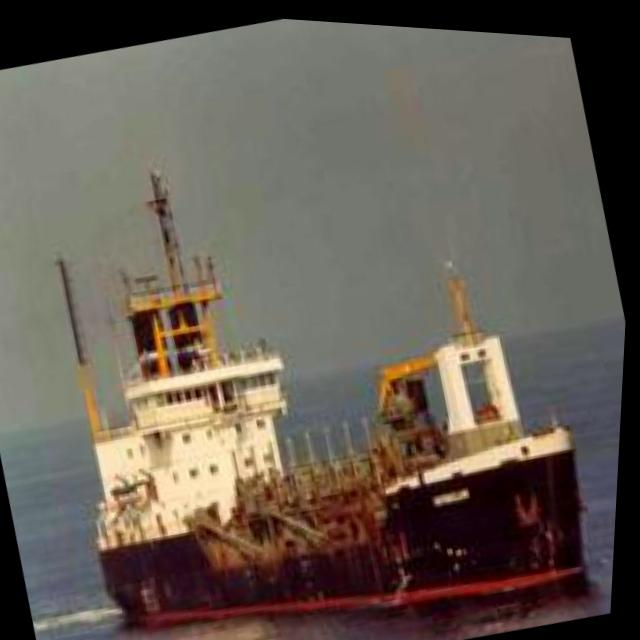ship2: (54, 169, 599, 628)
